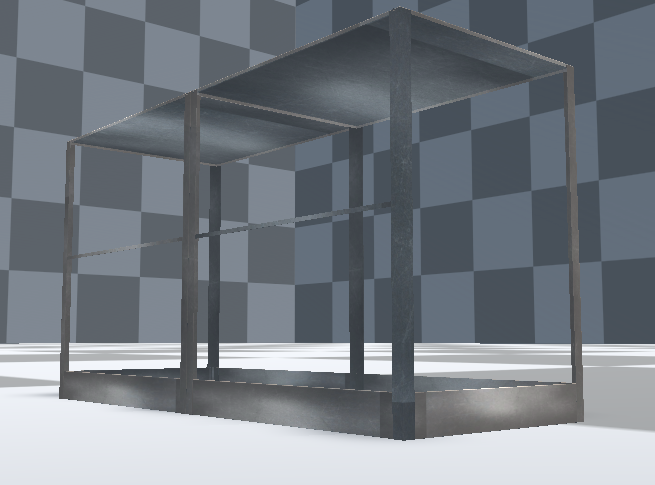Rack: (57, 3, 587, 443)
